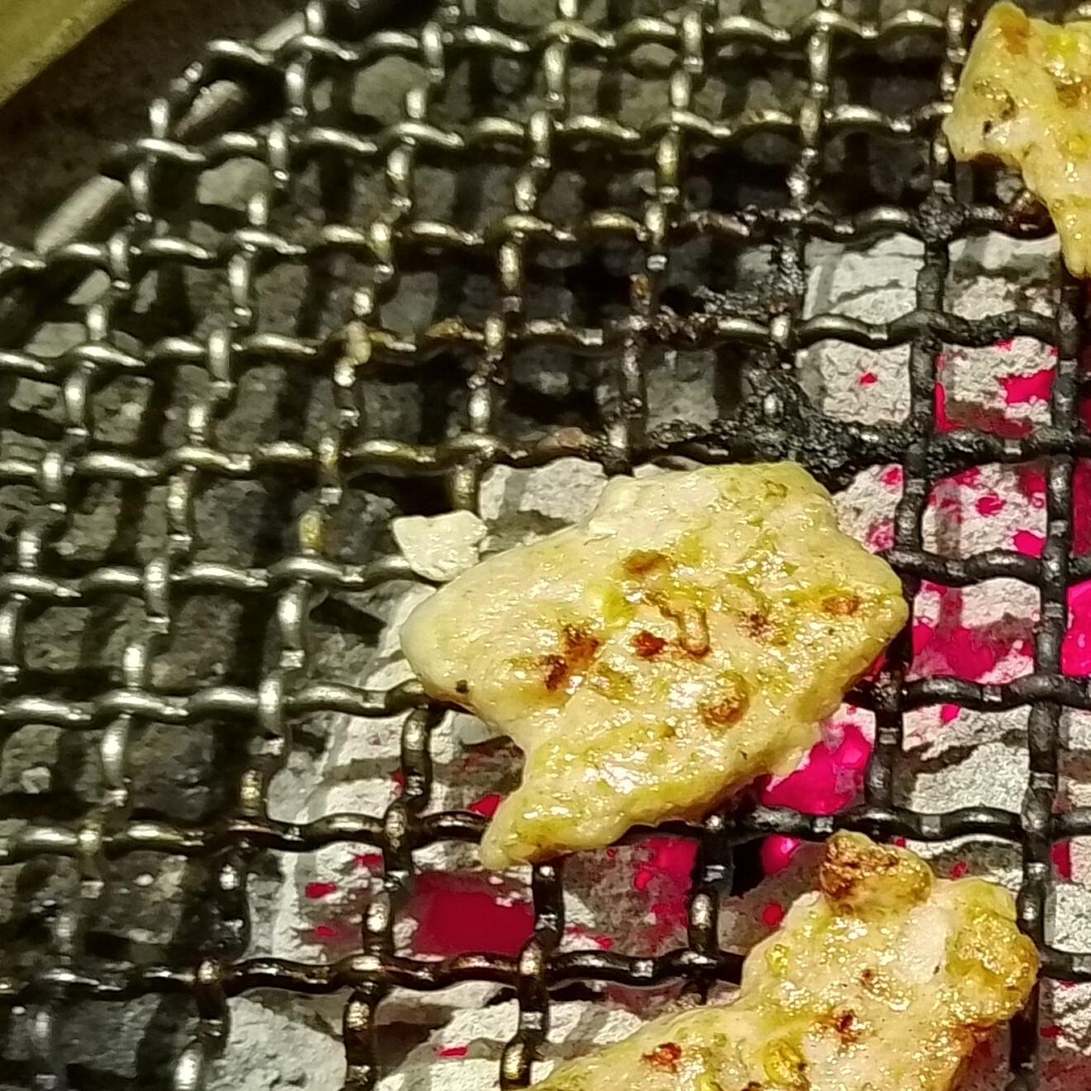Well-Cooked: (401, 462, 908, 869), (538, 832, 1037, 1090), (942, 0, 1090, 279)
